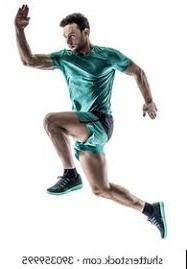Human: (11, 4, 186, 240)
